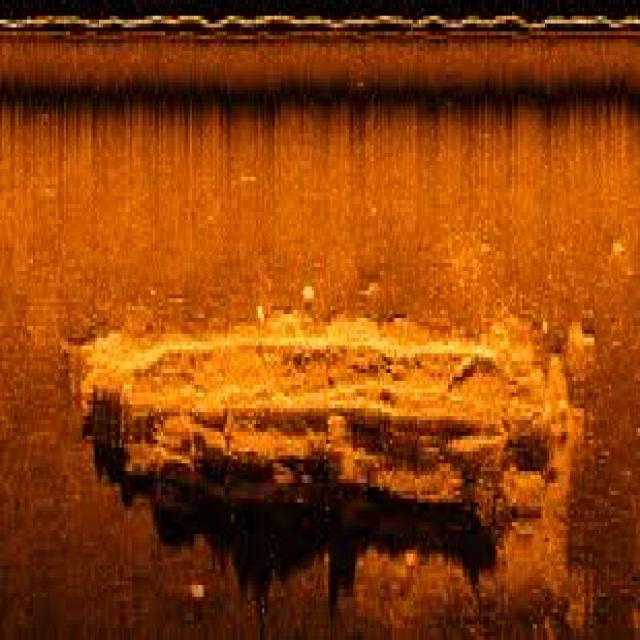ship: (66, 326, 562, 518)
